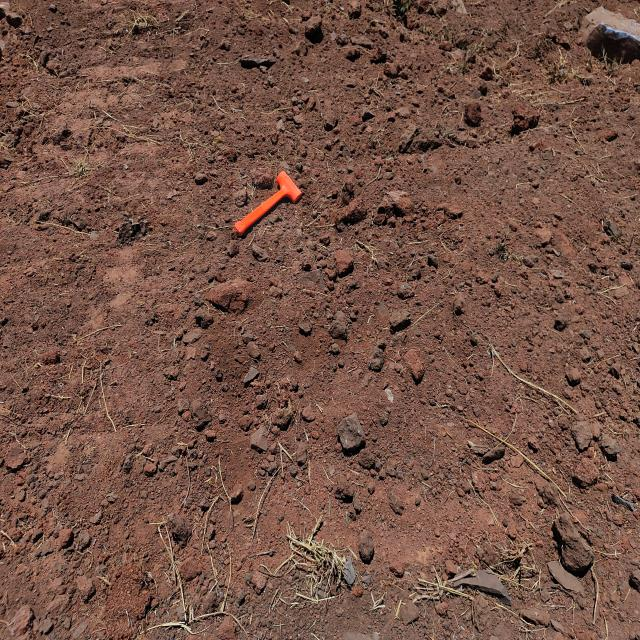Orange_hammer: (233, 170, 302, 236)
